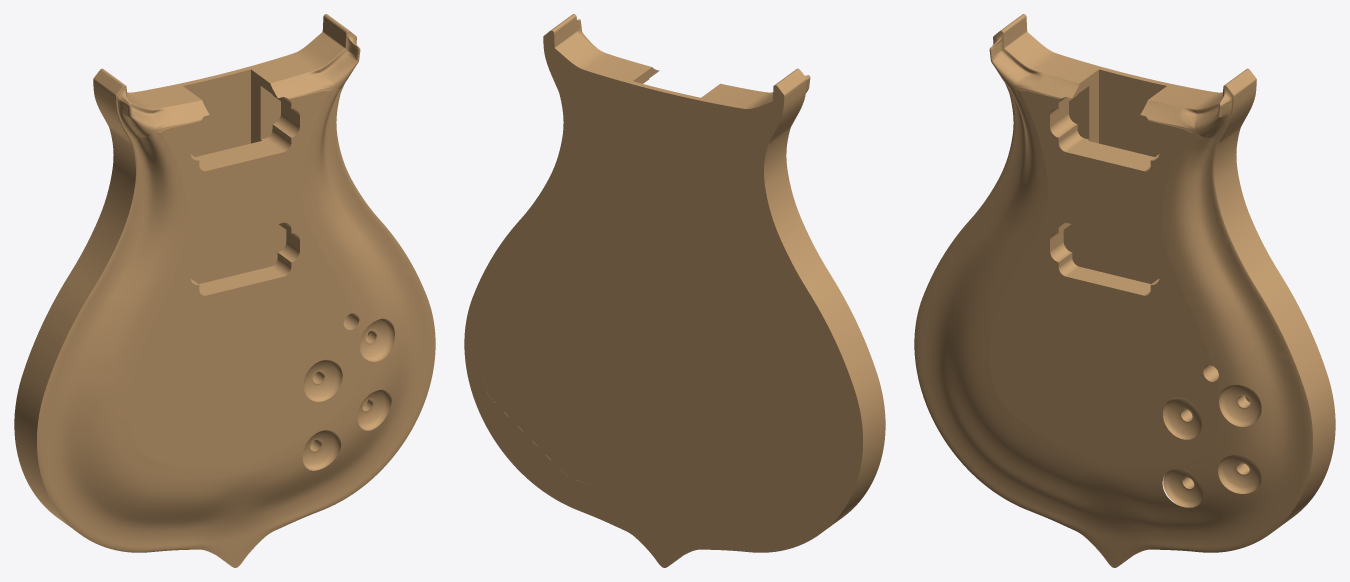
The model's file is sphyx_standard.glb.
The picture shows the model from 3 angles, left to right: view 1: azimuth 30°, elevation 25°; view 2: azimuth 150°, elevation 25°; view 3: azimuth 330°, elevation 25°; orthographic projection.
Visible parts, largest first — view 1: sphyx_standard; view 2: sphyx_standard; view 3: sphyx_standard.
Part boxes in pixels (box(x1,y1,x2,y2)): sphyx_standard: box(14, 14, 435, 567); sphyx_standard: box(464, 14, 885, 567); sphyx_standard: box(914, 14, 1335, 567).
Size of the model in its own units: 0.3251 by 0.3973 by 0.0445.
